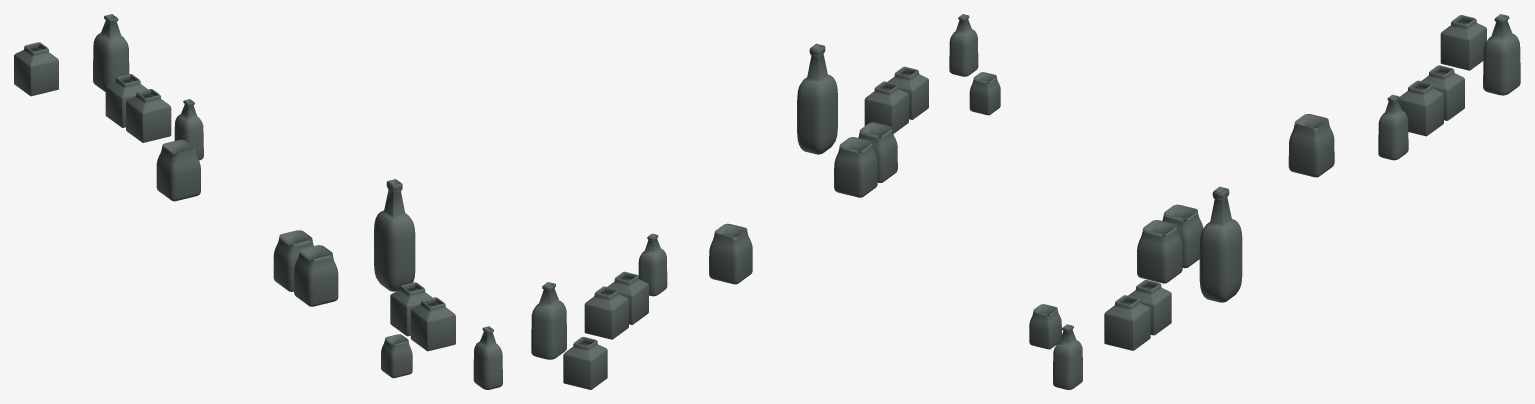
File: bottles2 (1).fbx
3 views of the same model, side by side, from view 1: azimuth 30°, elevation 25°; view 2: azimuth 150°, elevation 25°; view 3: azimuth 330°, elevation 25° (orthographic). The views are drawn at different scales.
Visible parts, largest first — view 1: Cube.046, Cube.027, Cube.044, Cube.049, Cube.037, Cube.040, Cube.034, Cube.052, Cube.043, Cube.048, Cube.036, Cube.053 (+1 smaller); view 2: Cube.046, Cube.027, Cube.043, Cube.040, Cube.036, Cube.034, Cube.048, Cube.052, Cube.044, Cube.038, Cube.049, Cube.037 (+1 smaller); view 3: Cube.046, Cube.027, Cube.044, Cube.040, Cube.049, Cube.034, Cube.037, Cube.038, Cube.052, Cube.043, Cube.048, Cube.036 (+1 smaller).
Part boxes in pixels (x1=…): Cube.046: x1=374, y1=179, x2=415, y2=291; Cube.027: x1=156, y1=139, x2=200, y2=201; Cube.044: x1=294, y1=245, x2=338, y2=306; Cube.049: x1=410, y1=297, x2=455, y2=351; Cube.037: x1=126, y1=89, x2=171, y2=142; Cube.040: x1=93, y1=14, x2=129, y2=91; Cube.034: x1=14, y1=42, x2=58, y2=96; Cube.052: x1=473, y1=326, x2=502, y2=389; Cube.043: x1=273, y1=230, x2=313, y2=291; Cube.048: x1=390, y1=282, x2=432, y2=336; Cube.036: x1=105, y1=74, x2=147, y2=127; Cube.053: x1=381, y1=334, x2=412, y2=378; Cube.046: x1=797, y1=43, x2=837, y2=154; Cube.027: x1=709, y1=223, x2=752, y2=284; Cube.043: x1=834, y1=137, x2=877, y2=197; Cube.040: x1=531, y1=282, x2=566, y2=359; Cube.036: x1=584, y1=286, x2=628, y2=339; Cube.034: x1=563, y1=337, x2=607, y2=389; Cube.048: x1=864, y1=81, x2=908, y2=133; Cube.052: x1=949, y1=14, x2=978, y2=76; Cube.044: x1=858, y1=122, x2=897, y2=182; Cube.038: x1=638, y1=233, x2=667, y2=296; Cube.049: x1=887, y1=66, x2=928, y2=119; Cube.037: x1=607, y1=271, x2=648, y2=324; Cube.046: x1=1199, y1=186, x2=1242, y2=302; Cube.027: x1=1288, y1=114, x2=1334, y2=177; Cube.044: x1=1137, y1=220, x2=1182, y2=283; Cube.040: x1=1483, y1=14, x2=1520, y2=95; Cube.049: x1=1104, y1=295, x2=1150, y2=350; Cube.034: x1=1440, y1=15, x2=1486, y2=70; Cube.037: x1=1398, y1=80, x2=1443, y2=136; Cube.038: x1=1378, y1=94, x2=1408, y2=160; Cube.052: x1=1053, y1=324, x2=1082, y2=389; Cube.043: x1=1162, y1=204, x2=1203, y2=268; Cube.048: x1=1128, y1=280, x2=1171, y2=335; Cube.036: x1=1421, y1=65, x2=1464, y2=120.
Bounding box in the file's own units: 44.28 × 41.61 × 304.
1 material, 1 textured.
